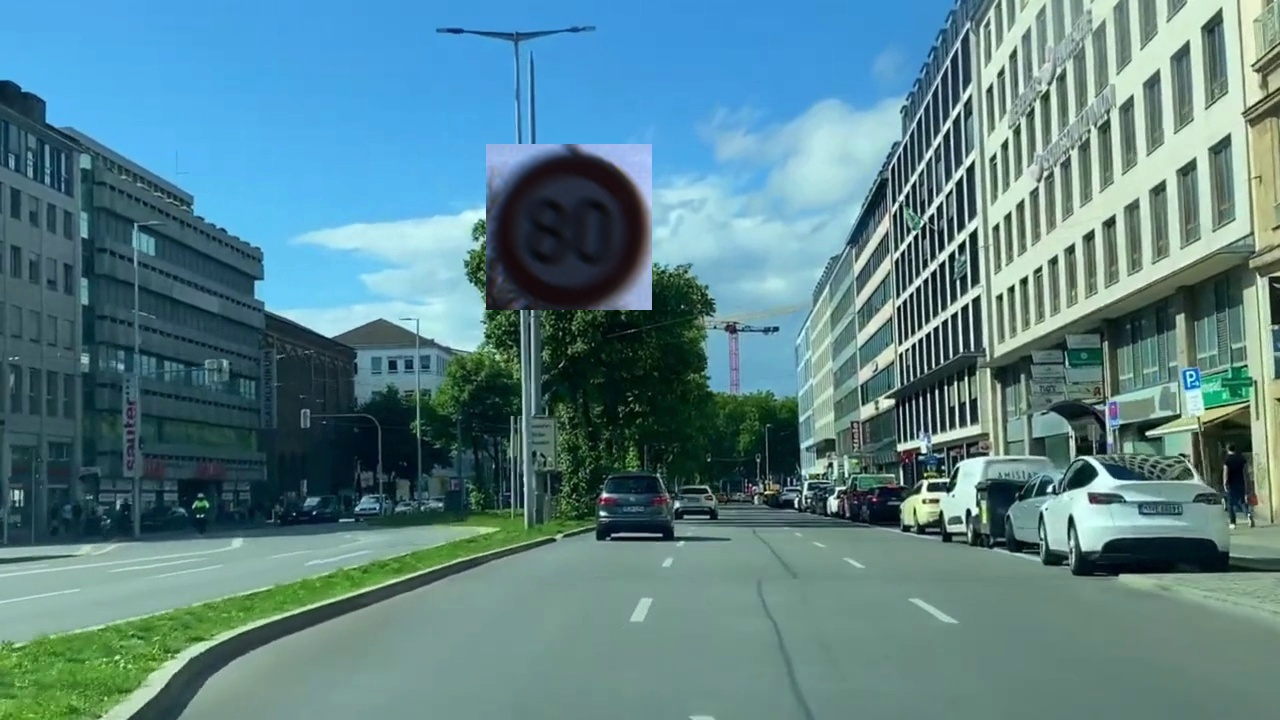Speed 80: (486, 144, 652, 310)
